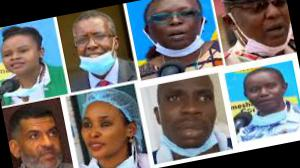mask_weared_incorrect: (158, 79, 224, 155), (230, 1, 294, 53), (147, 3, 207, 55), (74, 26, 115, 69)
without_mask: (78, 107, 130, 161), (23, 121, 67, 168), (246, 76, 287, 111), (1, 40, 40, 74)
